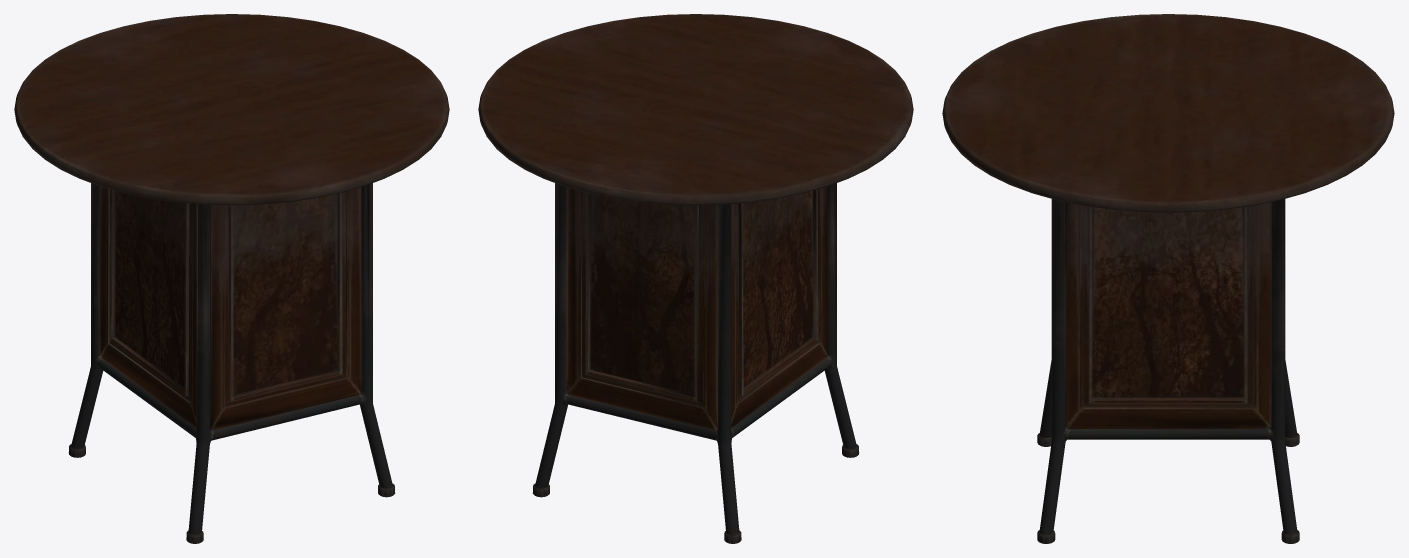
File: round_wooden_table_02.glb
The picture shows the model from 3 angles, left to right: view 1: azimuth 30°, elevation 25°; view 2: azimuth 150°, elevation 25°; view 3: azimuth 270°, elevation 25°; orthographic projection. The views are drawn at different scales.
Parts seen in each view (by area): view 1: round_wooden_table_02; view 2: round_wooden_table_02; view 3: round_wooden_table_02.
Part boxes in pixels (<box>): round_wooden_table_02: <box>14,14,449,543</box>; round_wooden_table_02: <box>478,14,913,543</box>; round_wooden_table_02: <box>942,14,1394,543</box>.
Bounding box in the file's own units: 0.7962 × 0.7459 × 0.7962.
1 material, 1 textured.
